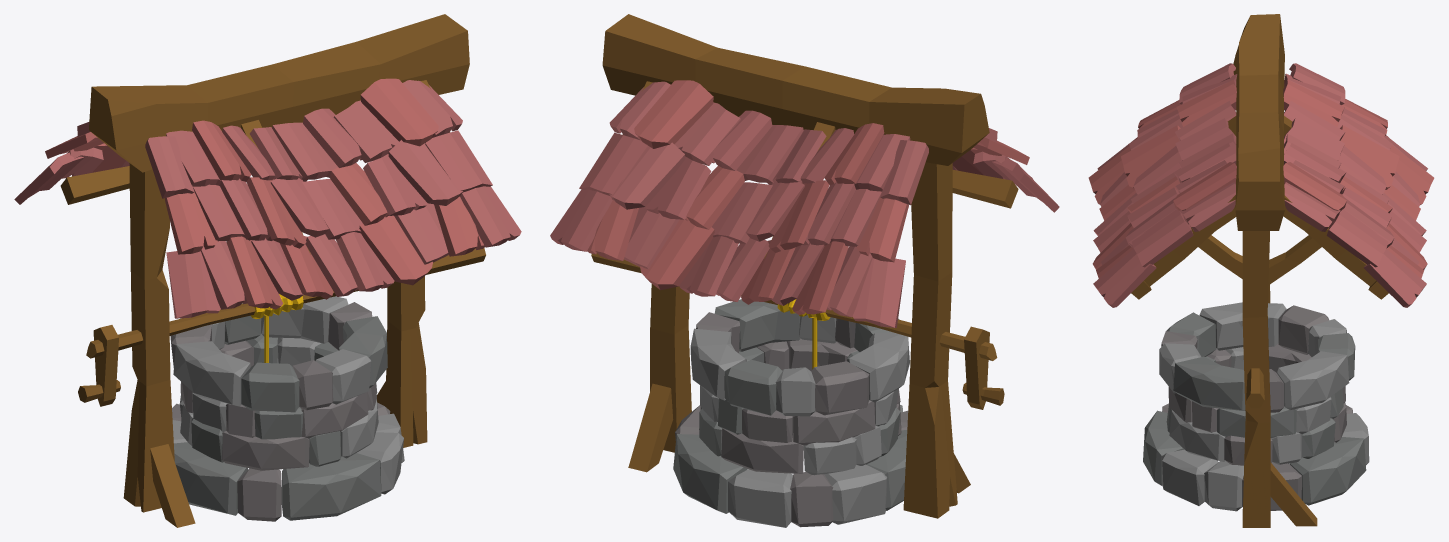
Rendered from Well.fbx.
The picture shows the model from 3 angles, left to right: view 1: azimuth 30°, elevation 25°; view 2: azimuth 150°, elevation 25°; view 3: azimuth 270°, elevation 25°; orthographic projection. The views are drawn at different scales.
Parts seen in each view (by area): view 1: Cube.007, Cube.003, Cube, Cube.005, Cube.002, Cube.001, Cube.004, Cube.020, Cube.049, Cube.034, Cube.023, Cylinder (+30 smaller); view 2: Cube.007, Cube.003, Cube.005, Cube, Cube.002, Cube.001, Cube.004, Cube.020, Cube.049, Cube.034, Cube.030, Cube.042 (+30 smaller); view 3: Cube.003, Cube.007, Cube, Cube.004, Cube.002, Cube.001, Cube.040, Cube.031, Cube.035, Cube.008, Cube.050, Cube.041 (+28 smaller).
Part boxes in pixels (x1,y1,x2,y2): Cube.007: (89, 14, 469, 172); Cube.003: (170, 296, 387, 412); Cube: (172, 402, 404, 521); Cube.005: (123, 163, 174, 512); Cube.002: (180, 334, 377, 439); Cube.001: (179, 358, 378, 470); Cube.004: (385, 276, 427, 447); Cube.020: (14, 152, 220, 318); Cube.049: (360, 78, 438, 146); Cube.034: (45, 132, 217, 254); Cube.023: (92, 143, 282, 309); Cylinder: (86, 248, 485, 358); Cube.007: (602, 14, 989, 165); Cube.003: (690, 299, 909, 416); Cube.005: (903, 162, 957, 518); Cube: (673, 405, 908, 527); Cube.002: (700, 338, 900, 445); Cube.001: (699, 402, 901, 475); Cube.004: (650, 284, 691, 452); Cube.020: (852, 157, 1059, 327); Cube.049: (634, 80, 713, 148); Cube.034: (856, 137, 1029, 262); Cube.030: (640, 219, 714, 290); Cube.042: (609, 142, 685, 209); Cube.003: (1159, 302, 1355, 412); Cube.007: (1233, 14, 1284, 230); Cube: (1143, 403, 1369, 511); Cube.004: (1242, 231, 1270, 527); Cube.002: (1168, 343, 1345, 437); Cube.001: (1166, 402, 1346, 465); Cube.040: (1131, 209, 1388, 267); Cube.031: (1093, 249, 1426, 307); Cube.035: (1121, 125, 1399, 189); Cube.008: (1144, 116, 1376, 286); Cube.050: (1179, 182, 1340, 231); Cube.041: (1176, 79, 1344, 126).
Bounding box in the file's own units: 359 × 364 × 299.
